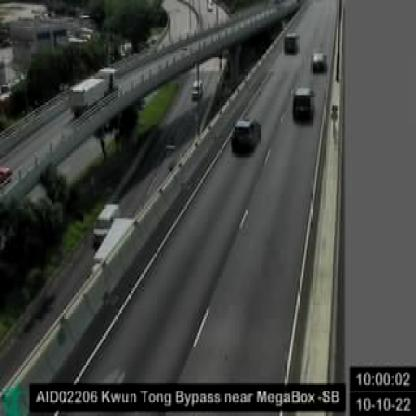Car: (232, 117, 260, 152), (294, 85, 314, 123), (1, 165, 13, 194), (284, 32, 300, 52), (310, 52, 326, 72)
Truck: (70, 68, 117, 118)
